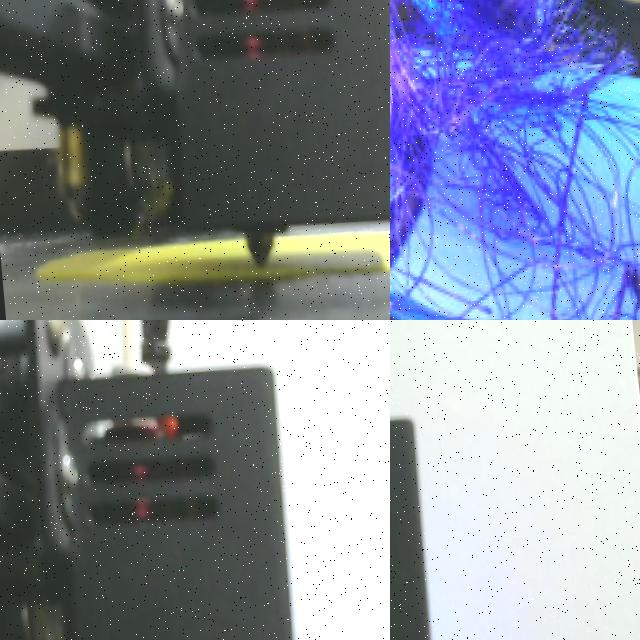spaghetti: (390, 0, 640, 320)
